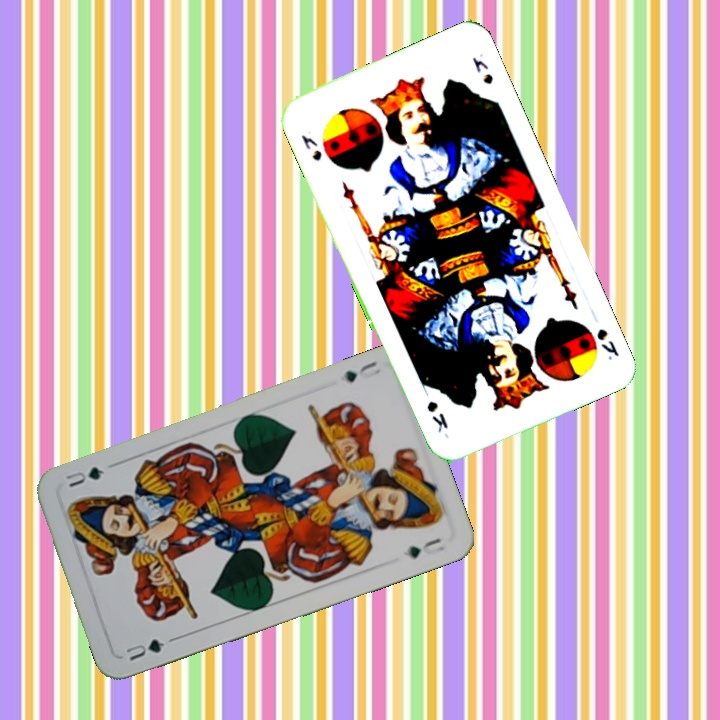GU: (122, 634, 168, 664), (339, 357, 383, 385)
SK: (592, 324, 622, 363), (297, 130, 325, 164)
